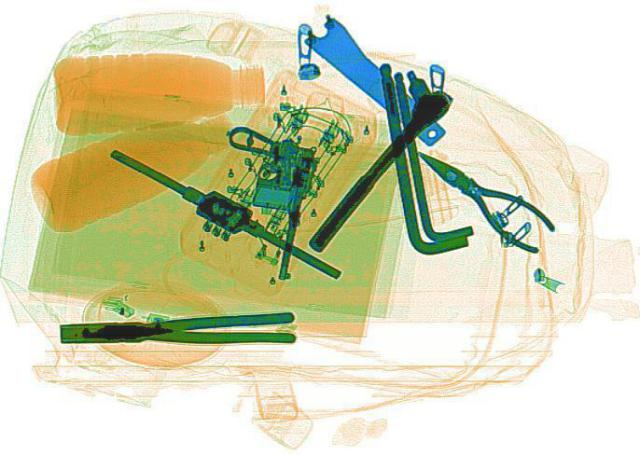Gun: (196, 123, 320, 280)
Pliers: (397, 136, 571, 255), (57, 311, 296, 346)
